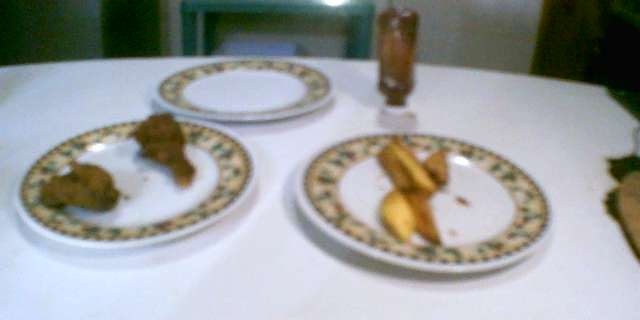chicken: (129, 108, 199, 191), (35, 157, 124, 217)
empty_plate: (148, 54, 335, 123)
ketchup_bottle: (368, 4, 427, 122)
potatoe_fries: (370, 133, 454, 246)
